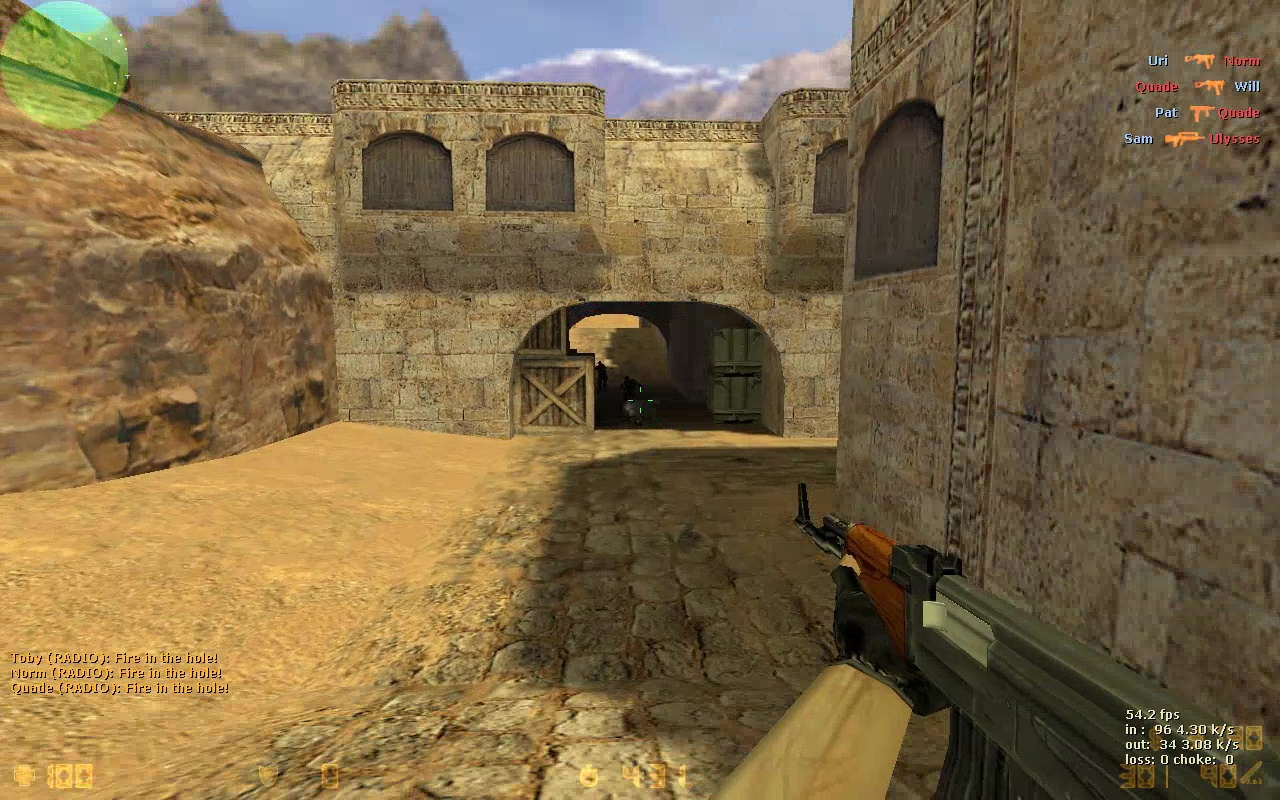ct: (595, 361, 609, 394), (622, 376, 639, 403)
